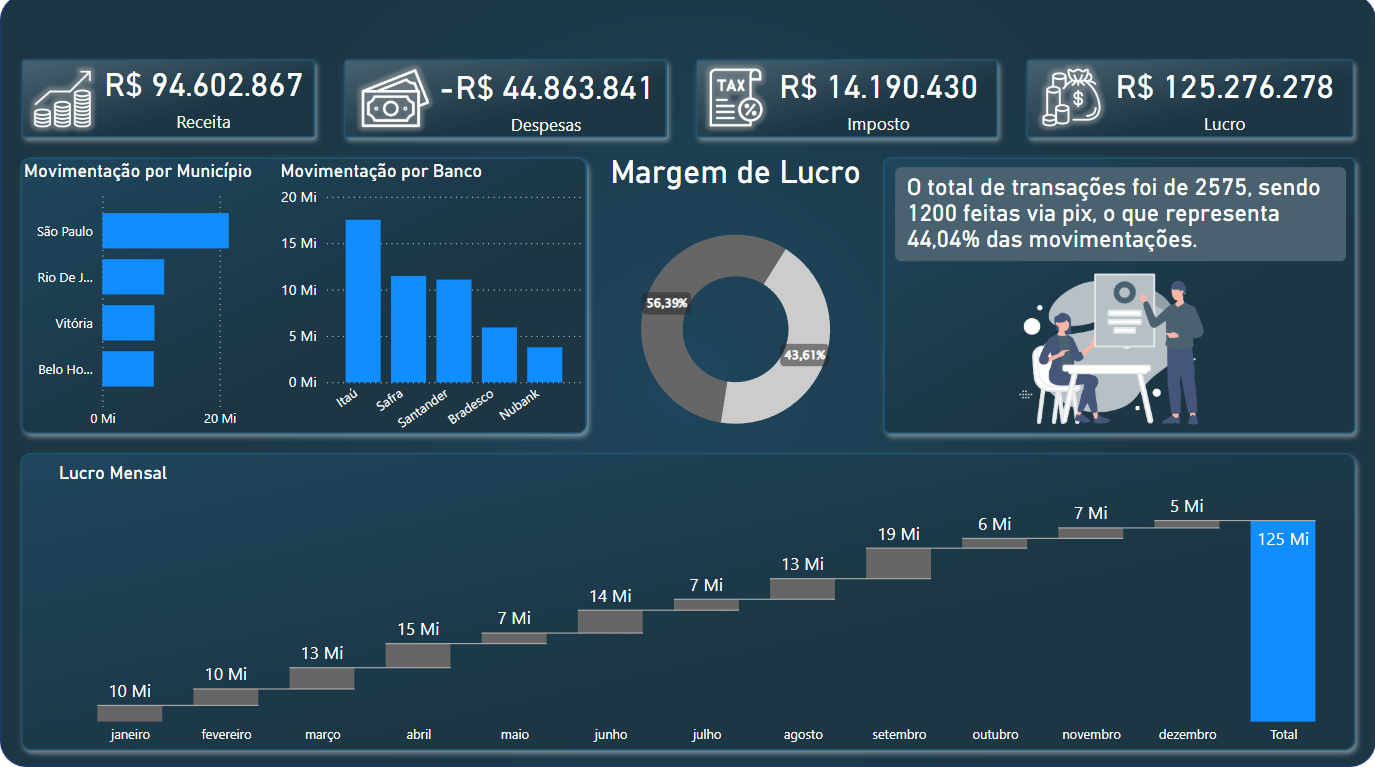

The page's visual inventory and layout, read from the dashboard file:
{"tool":"powerbi","page":{"name":"Página 1","canvas":[1280,720],"ordinal":0},"visuals":[{"type":"card","fields":{"Values":["Movimentações.Receita"]},"box":[69.8,52.3,239.5,81.4],"z":0},{"type":"card","fields":{"Values":["Movimentações.Despesas"]},"box":[381.4,52.3,253.5,87.2],"z":1000},{"type":"card","fields":{"Values":["Movimentações.Imposto"]},"box":[677.9,40.7,279.1,109.3],"z":2000},{"type":"card","fields":{"Values":["Movimentações.Lucro"]},"box":[1012.8,45.3,253.5,100],"z":3000},{"type":"waterfallChart","title":"Lucro Mensal","fields":{"Category":["Movimentações.Data da Movimentacao.Variation.Hierarquia de datas.Mês"],"Y":["Movimentações.Lucro"]},"box":[50.2,434.5,1216,272.2],"z":4000},{"type":"donutChart","title":"Margem de Lucro","fields":{"Y":["Movimentações.Margem","Movimentações.Desvio Margem"]},"box":[529.4,147.6,310.4,289.3],"z":5000},{"type":"clusteredBarChart","title":"Movimentação por Município","fields":{"Category":["Movimentações.Município"],"Y":["Sum(Movimentações.Valor da Movimentação)"]},"box":[17.8,154.7,261.6,258.3],"z":6000},{"type":"clusteredColumnChart","title":"Movimentação por Banco","fields":{"Category":["Movimentações.Banco"],"Y":["Sum(Movimentações.Valor da Movimentação)"]},"box":[256,154.7,290.5,272.7],"z":7000},{"type":"card","title":"O total de transações foi de 2575, sendo 1200 feitas via pix, o que representa 44,04% das movimentações.","fields":{"Values":["Movimentações.% PIX"]},"box":[838.2,167,403,76.8],"z":8000}]}

Visuals, with their boxes in screenshot pixels (x1, y1, x2, y2), scaled from the page's 1280x720 canvas onto the 1375x767 screenshot:
card - Movimentações.Receita: left=75, top=56, right=332, bottom=142
card - Movimentações.Despesas: left=410, top=56, right=682, bottom=149
card - Movimentações.Imposto: left=728, top=43, right=1028, bottom=160
card - Movimentações.Lucro: left=1088, top=48, right=1360, bottom=155
"Lucro Mensal" waterfallChart: left=54, top=463, right=1360, bottom=753
"Margem de Lucro" donutChart: left=569, top=157, right=902, bottom=465
"Movimentação por Município" clusteredBarChart: left=19, top=165, right=300, bottom=440
"Movimentação por Banco" clusteredColumnChart: left=275, top=165, right=587, bottom=455
"O total de transações foi de 2575, sendo 1200 feitas via pix, o que representa 44,04% das movimentações." card: left=900, top=178, right=1333, bottom=260
